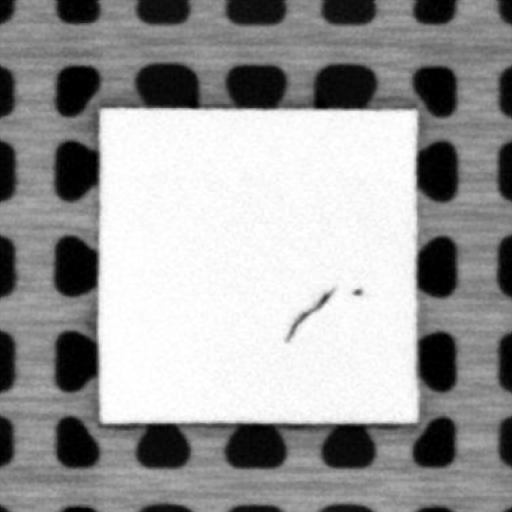DIE_INK: (284, 285, 338, 342), (348, 282, 363, 296)
